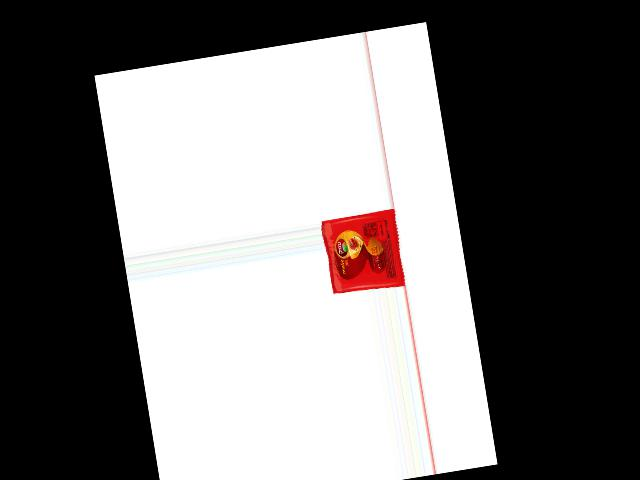cheese: (320, 207, 406, 294)
